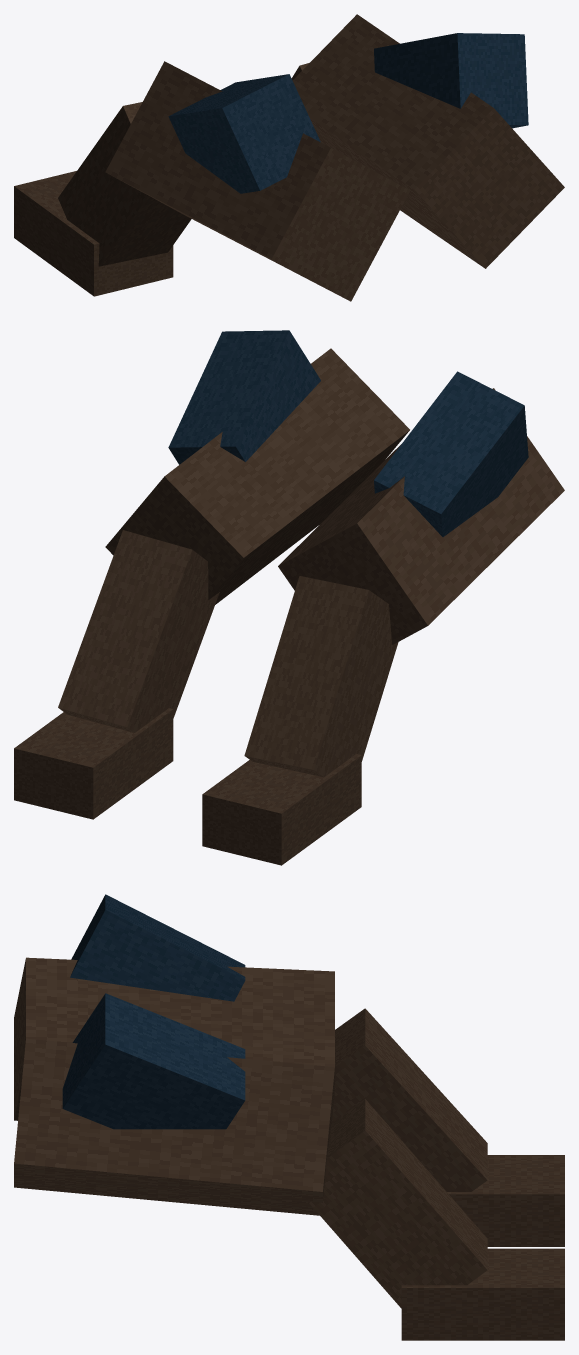
Rendered from player_lap.glb.
3 renders of one model, top to bottom at view 1: azimuth 30°, elevation 25°; view 2: azimuth 150°, elevation 25°; view 3: azimuth 270°, elevation 25°, orthographic.
Parts seen in each view (by area): view 1: player_lap; view 2: player_lap; view 3: player_lap.
Boxes of the visible parts, x1,y1,x2,y2 form: player_lap: [14, 14, 564, 301]; player_lap: [14, 330, 564, 865]; player_lap: [14, 894, 564, 1340].
Size of the model in its own units: 0.6514 by 0.611 by 0.9453.
Materials: 1 (1 with a texture image).
